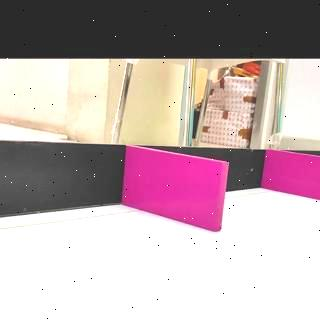xparking: (128, 162, 228, 222), (267, 157, 320, 198)
